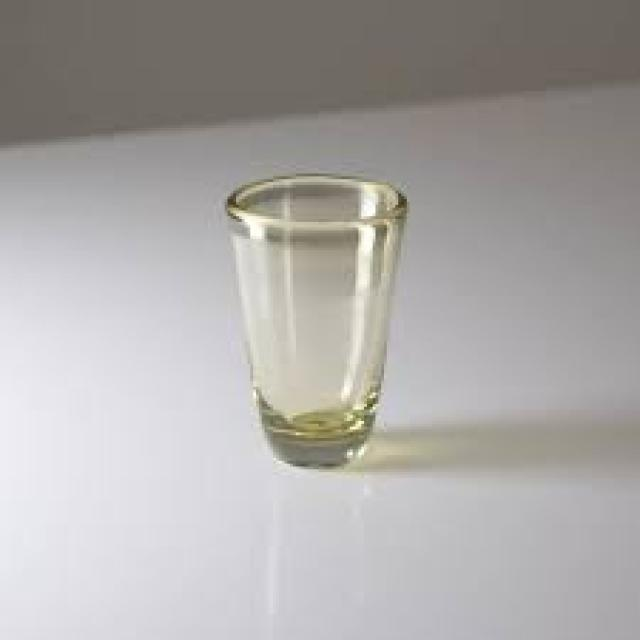glass: (222, 171, 404, 467)
